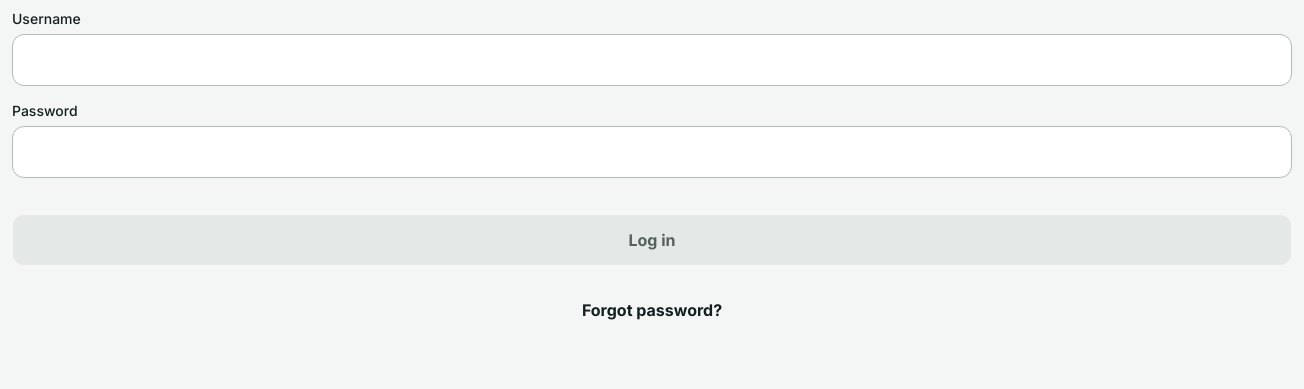
Test case: LoginForm › says the server could not be reached when the network fails (exception)
The width and height of the screenshot is (1304, 389).
Type "bb-4k7q2m" into the field labelled "Username" at coordinates (652, 60), box [12,34,1292,86]
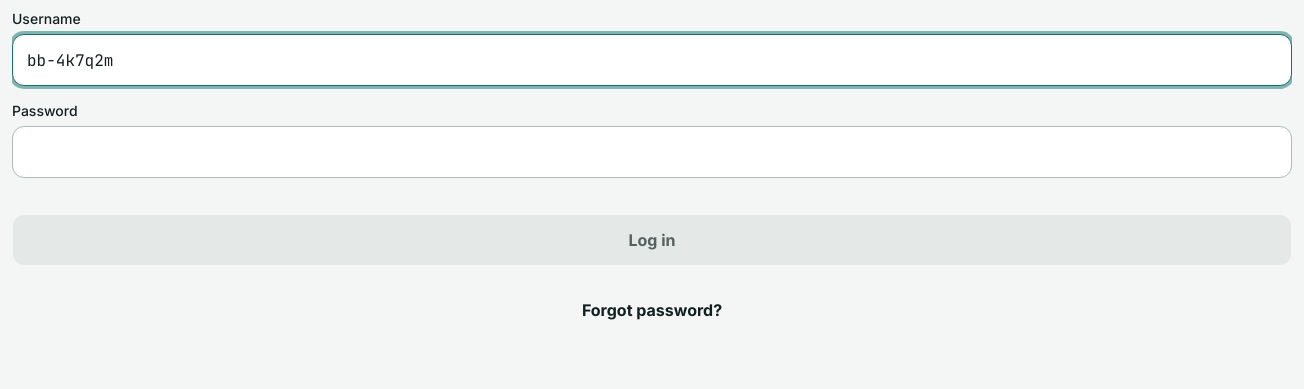
Type "wrong-password" into the password field labelled "Password" at coordinates (652, 152), box [12,126,1292,178]
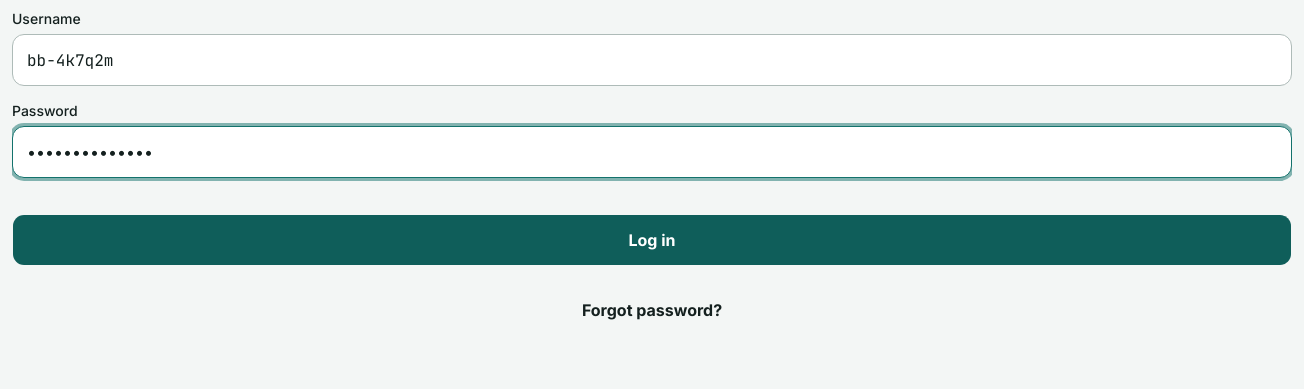
Click the button "Log in" at coordinates (652, 240), box [12,214,1292,266]
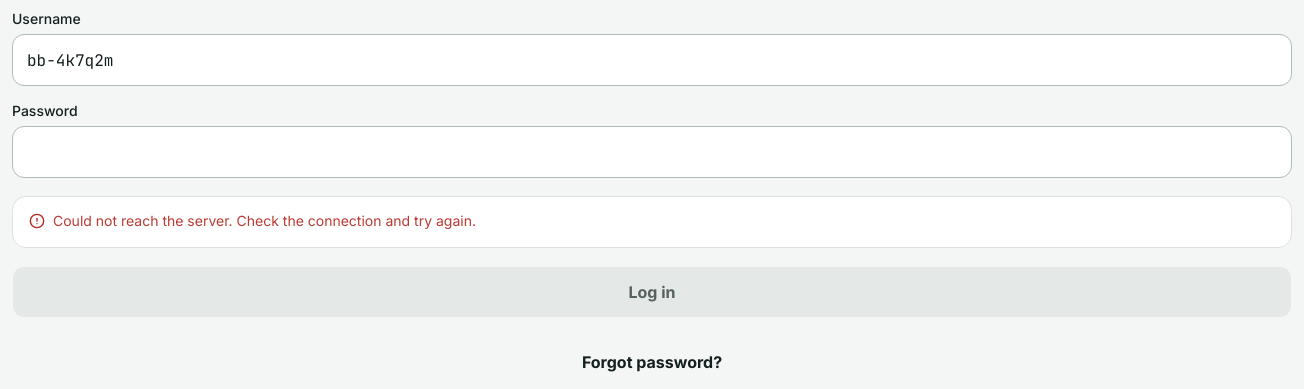
Expected: the text "Could not reach the server" is shown, [53,212,476,229]
